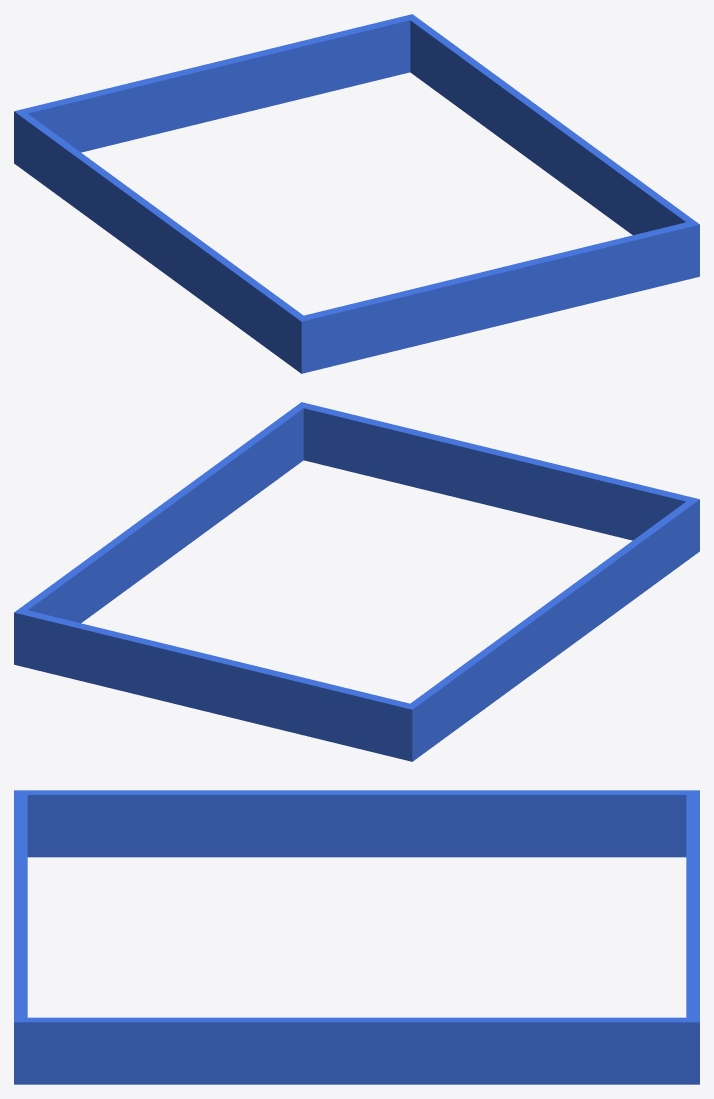
The model's file is square.dae.
The picture shows the model from 3 angles, top to bottom: view 1: azimuth 30°, elevation 25°; view 2: azimuth 150°, elevation 25°; view 3: azimuth 270°, elevation 25°; orthographic projection. The views are drawn at different scales.
Parts seen in each view (by area): view 1: Square; view 2: Square; view 3: Square.
Part boxes in pixels (box(x1,y1,x2,y2)): Square: box(14, 14, 699, 373); Square: box(14, 402, 699, 761); Square: box(14, 790, 699, 1084).
Bounding box in the file's own units: 4 × 5 × 0.5.
